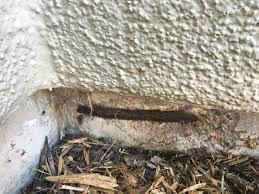Exposed reinforcement: (76, 102, 199, 123)
Spalling: (75, 87, 259, 157)
